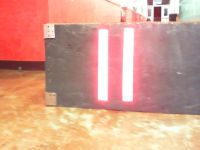switch: (121, 27, 136, 102), (98, 29, 109, 101)
